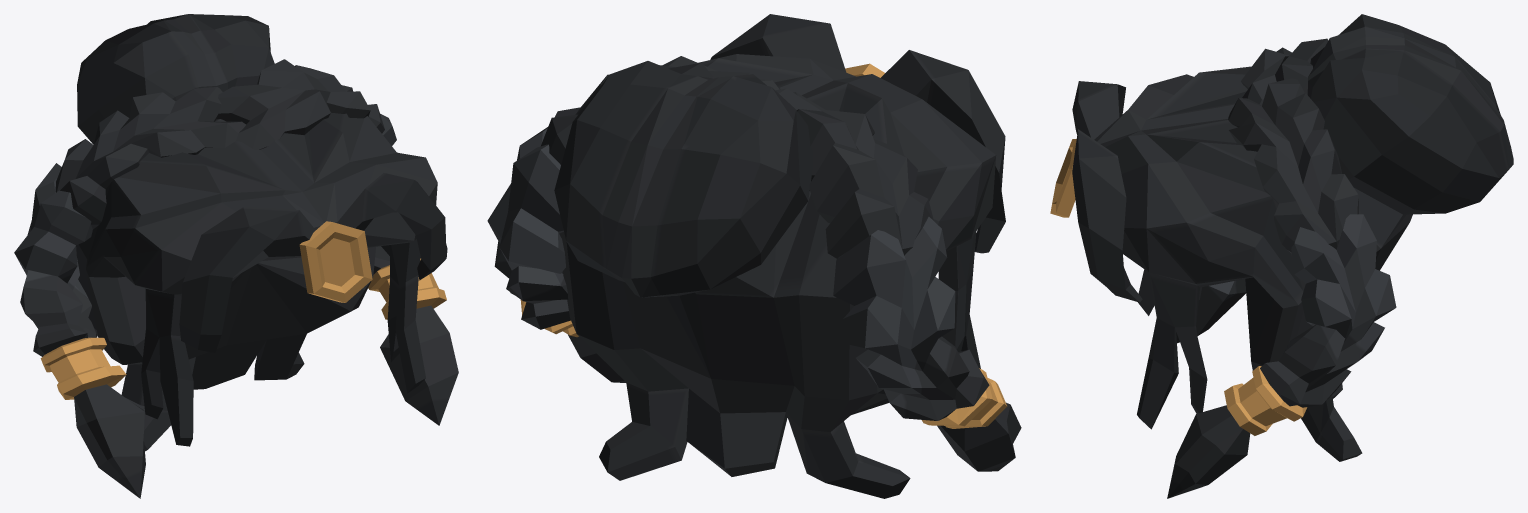
Rendered from SM_Chr_Attach_Hair_Fancy_01.fbx.
3 renders of one model, left to right at view 1: azimuth 30°, elevation 25°; view 2: azimuth 150°, elevation 25°; view 3: azimuth 270°, elevation 25°, orthographic. The views are drawn at different scales.
Parts seen in each view (by area): view 1: SM_Chr_Attach_Hair_Fancy_01; view 2: SM_Chr_Attach_Hair_Fancy_01; view 3: SM_Chr_Attach_Hair_Fancy_01.
Part boxes in pixels (x1,y1,x2,y2): SM_Chr_Attach_Hair_Fancy_01: (14,14,458,498); SM_Chr_Attach_Hair_Fancy_01: (487,14,1021,498); SM_Chr_Attach_Hair_Fancy_01: (1050,14,1513,498).
Size of the model in its own units: 35.54 by 31.76 by 34.74.
